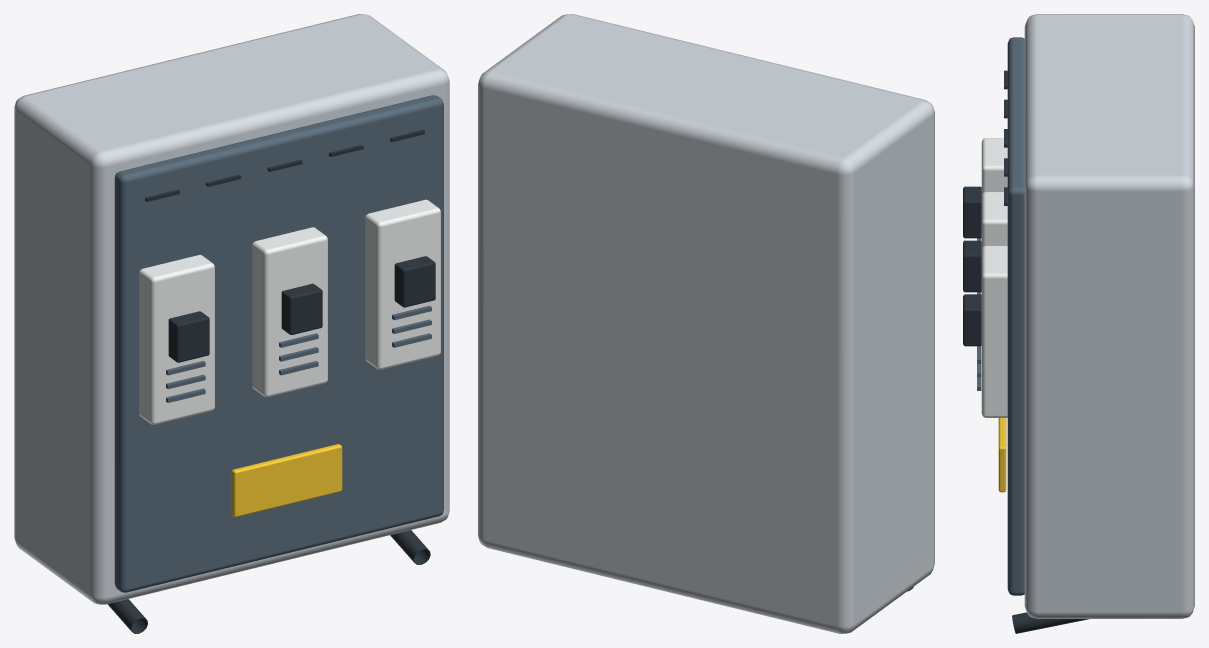
The model's file is fire-electrical.glb.
3 renders of one model, left to right at view 1: azimuth 30°, elevation 25°; view 2: azimuth 150°, elevation 25°; view 3: azimuth 270°, elevation 25°, orthographic. The views are drawn at different scales.
Visible parts, largest first — view 1: fire-electrical; view 2: fire-electrical; view 3: fire-electrical.
Boxes of the visible parts, box(x1,y1,x2,y2) form: fire-electrical: box(14, 14, 449, 633); fire-electrical: box(478, 14, 934, 633); fire-electrical: box(963, 14, 1194, 633).
Size of the model in its own units: 0.38 by 0.4888 by 0.218.
